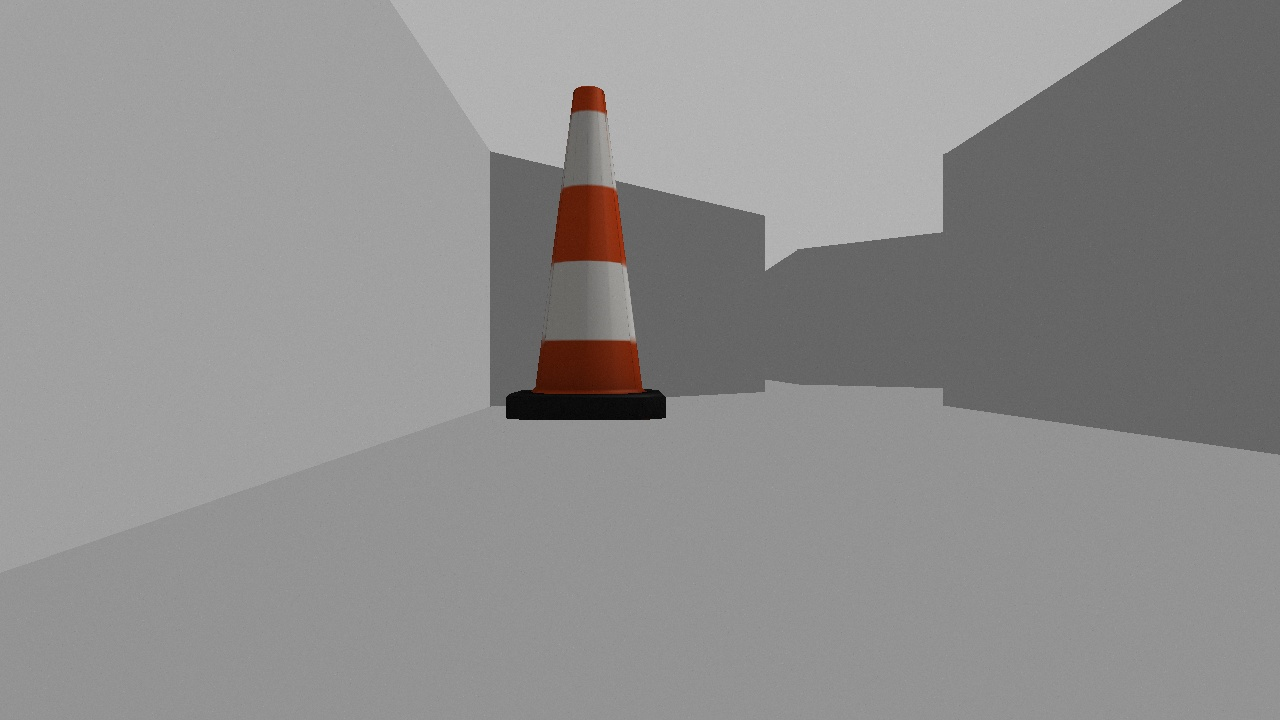barricade: (504, 85, 667, 421)
